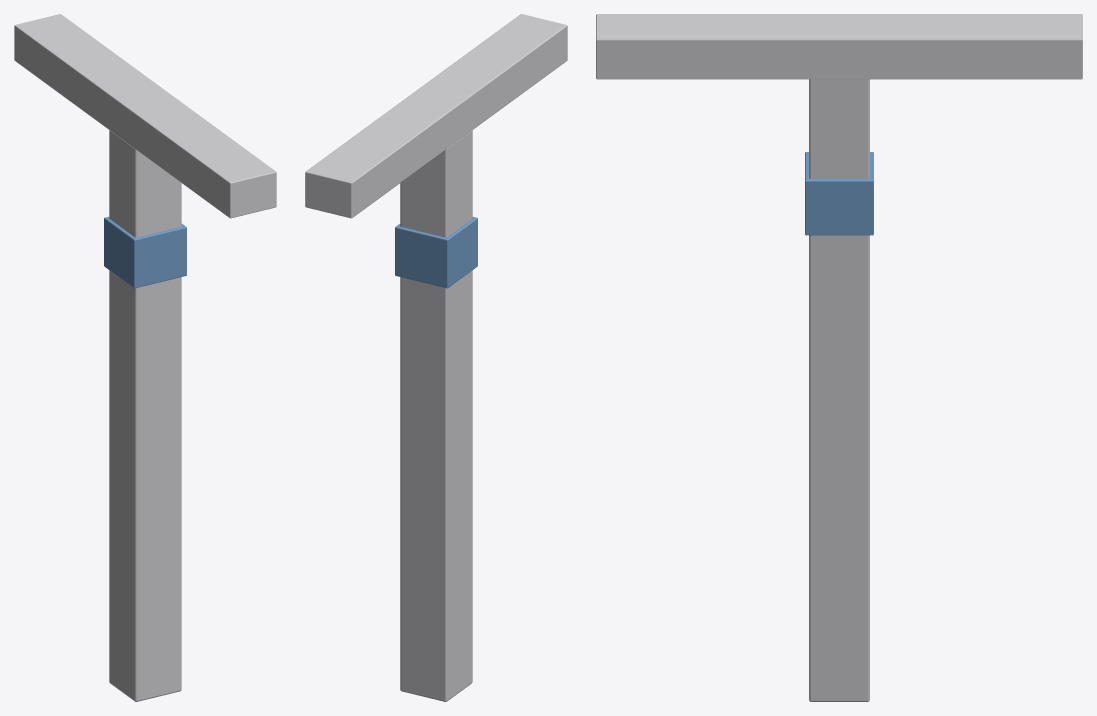
File: platform_pillar.glb
3 views of the same model, side by side, from view 1: azimuth 30°, elevation 25°; view 2: azimuth 150°, elevation 25°; view 3: azimuth 270°, elevation 25° (orthographic). The views are drawn at different scales.
Visible parts, largest first — view 1: pillar, pillar_beam, pillar_band; view 2: pillar, pillar_beam, pillar_band; view 3: pillar, pillar_beam, pillar_band.
Part boxes in pixels (x1,y1,x2,y2): pillar: (109, 130, 181, 701); pillar_beam: (14, 14, 276, 218); pillar_band: (104, 216, 186, 288); pillar: (400, 130, 472, 701); pillar_beam: (305, 14, 567, 218); pillar_band: (395, 216, 477, 288); pillar: (809, 79, 869, 701); pillar_beam: (596, 14, 1082, 79); pillar_band: (805, 152, 873, 235).
Bounding box in the file's own units: 0.34 × 3.61 × 2.4.
